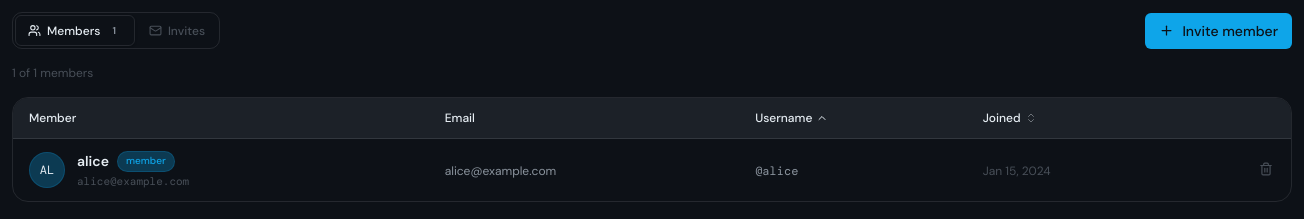
MembersTab › invites tab › shows invites error state
This screenshot has width=1304, height=219.
Click the button "Invites".
click(177, 31)  # box [137,17,217,45]
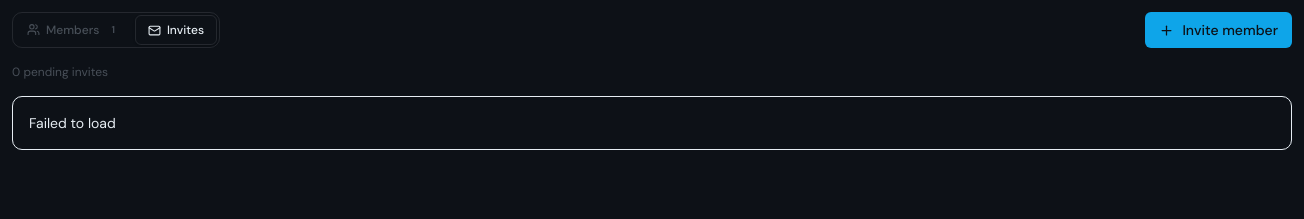
Now the text "Failed to load" is shown, box [12,96,1292,150]
